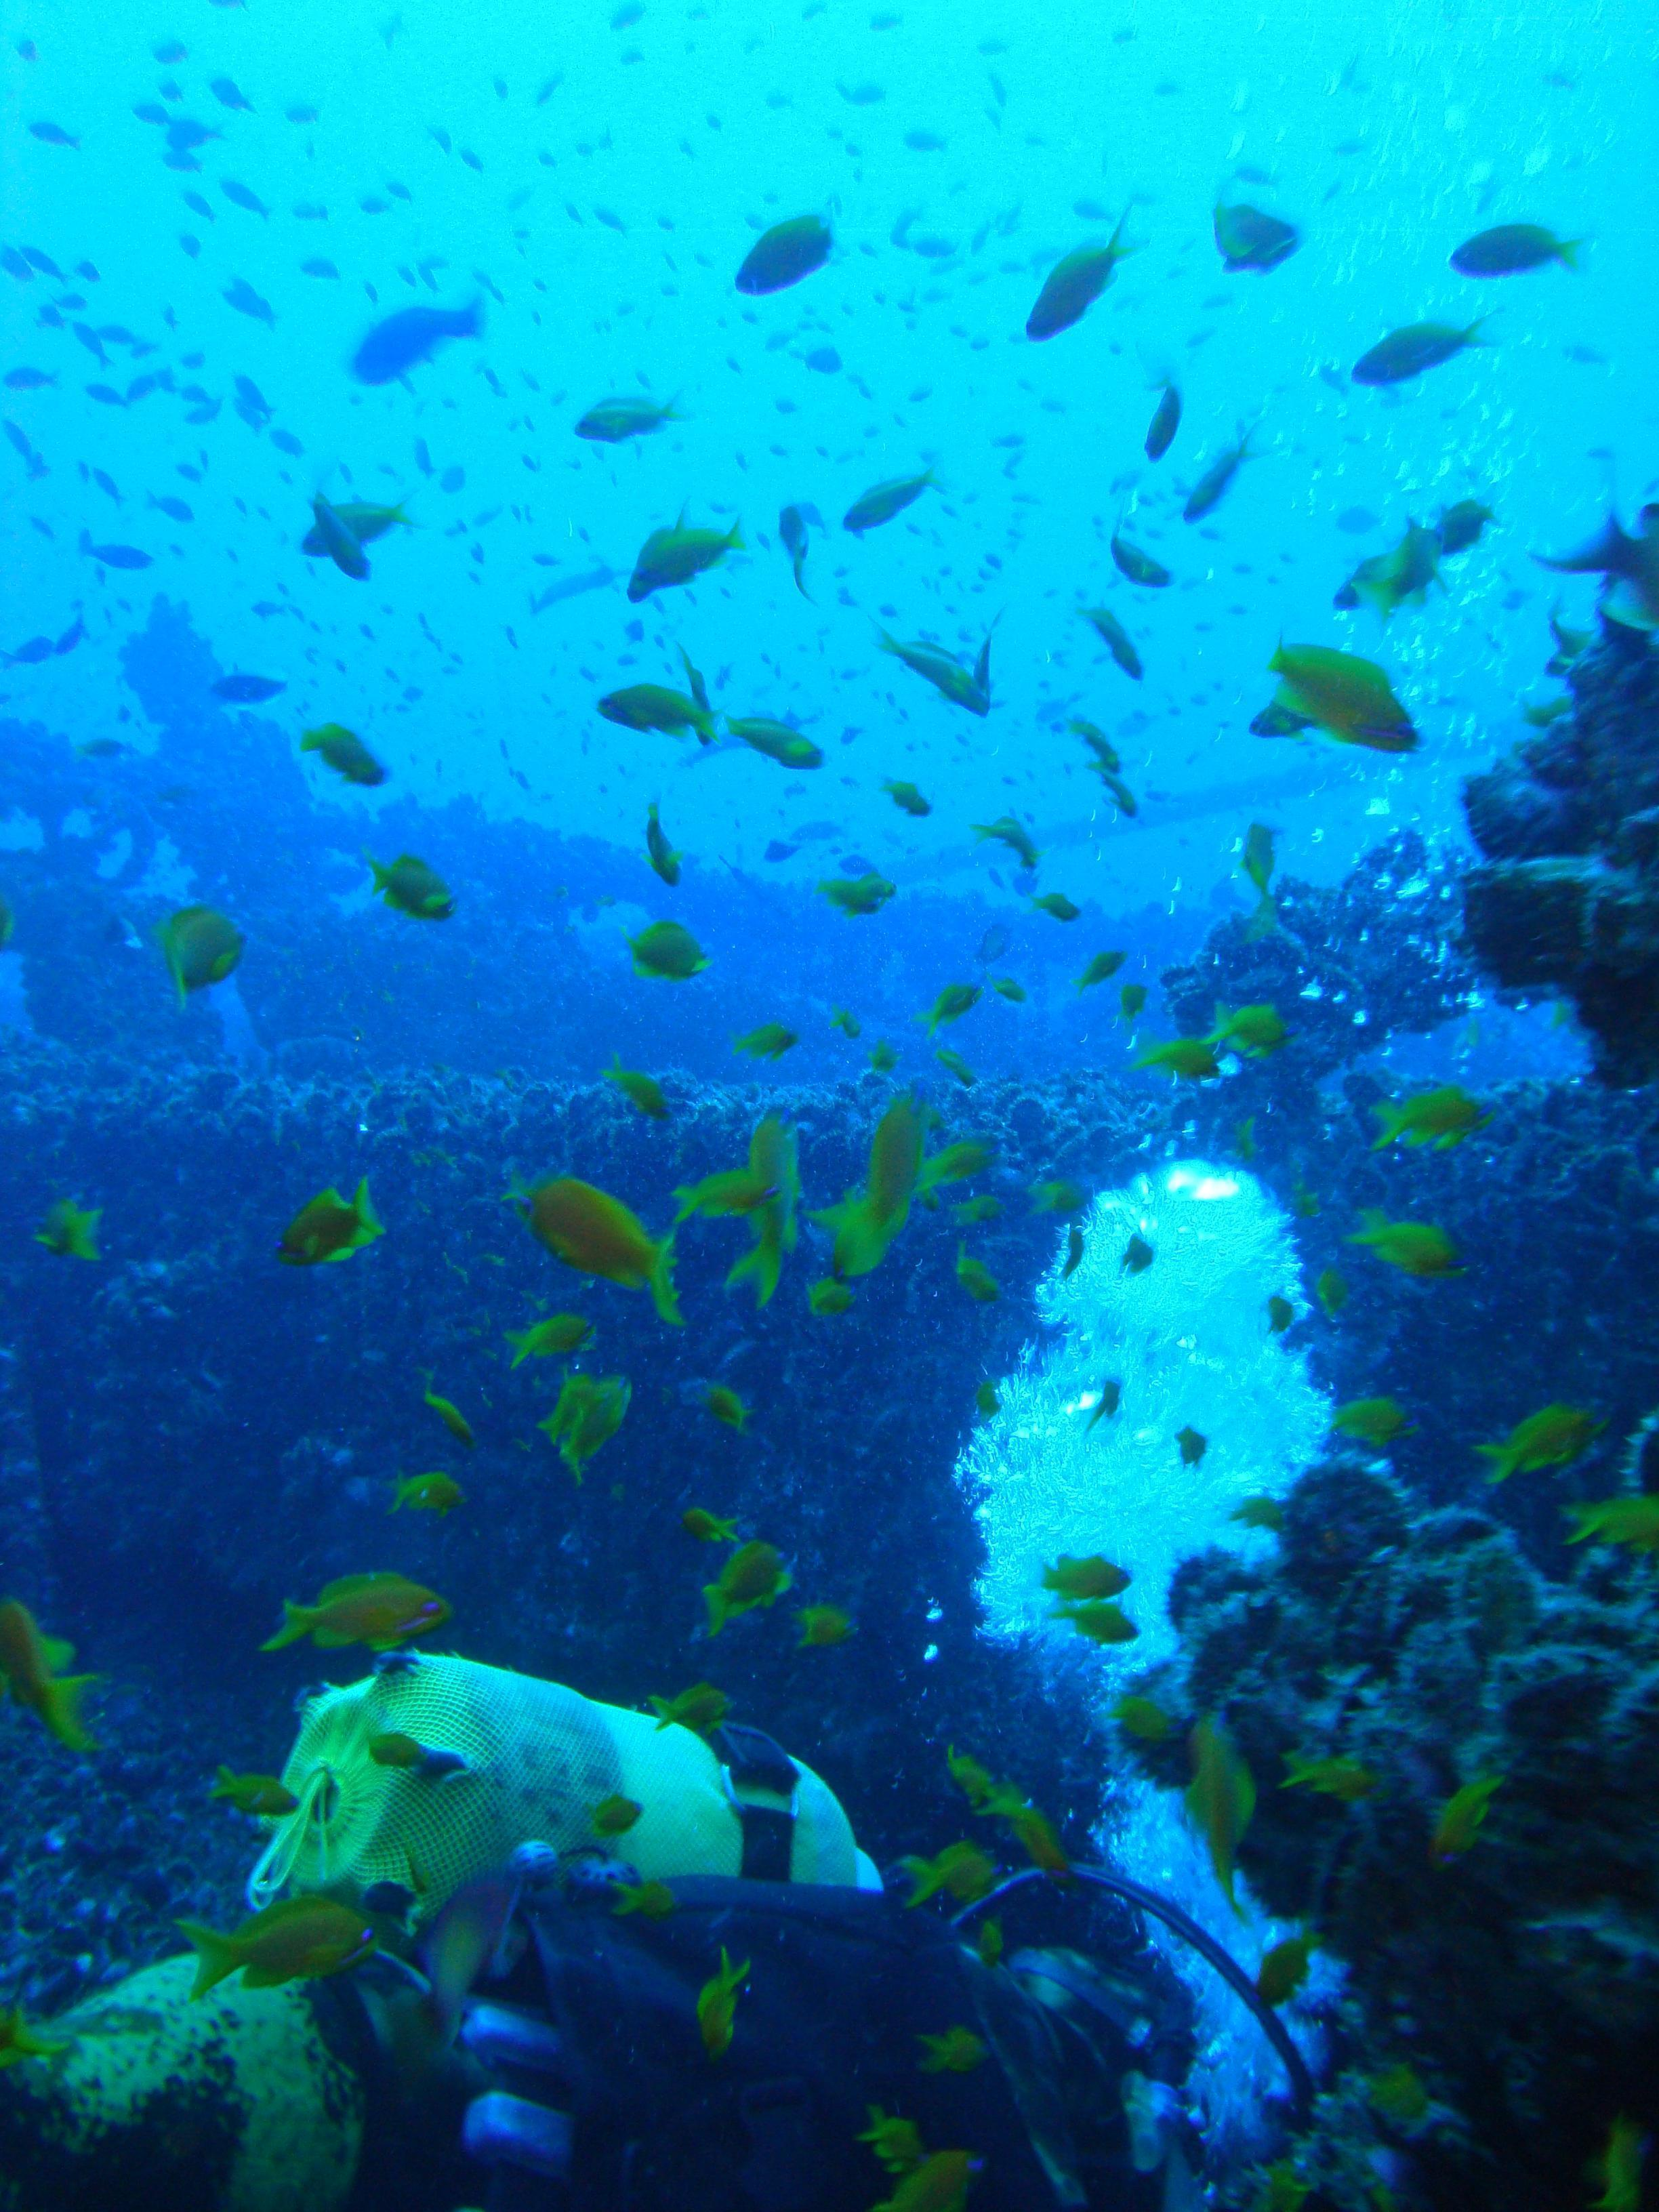Pseadanthias squamipinnis: (497, 1144, 712, 1347), (236, 1542, 500, 1685), (1231, 623, 1453, 785), (161, 1892, 420, 2018), (1415, 184, 1634, 319), (244, 1151, 422, 1313), (999, 199, 1171, 361), (1293, 311, 1544, 407), (541, 661, 737, 781), (121, 895, 291, 1031), (618, 483, 760, 641), (1298, 1211, 1529, 1307), (1469, 1370, 1616, 1519), (1336, 1059, 1534, 1163), (329, 842, 480, 951), (632, 1679, 760, 1744)
